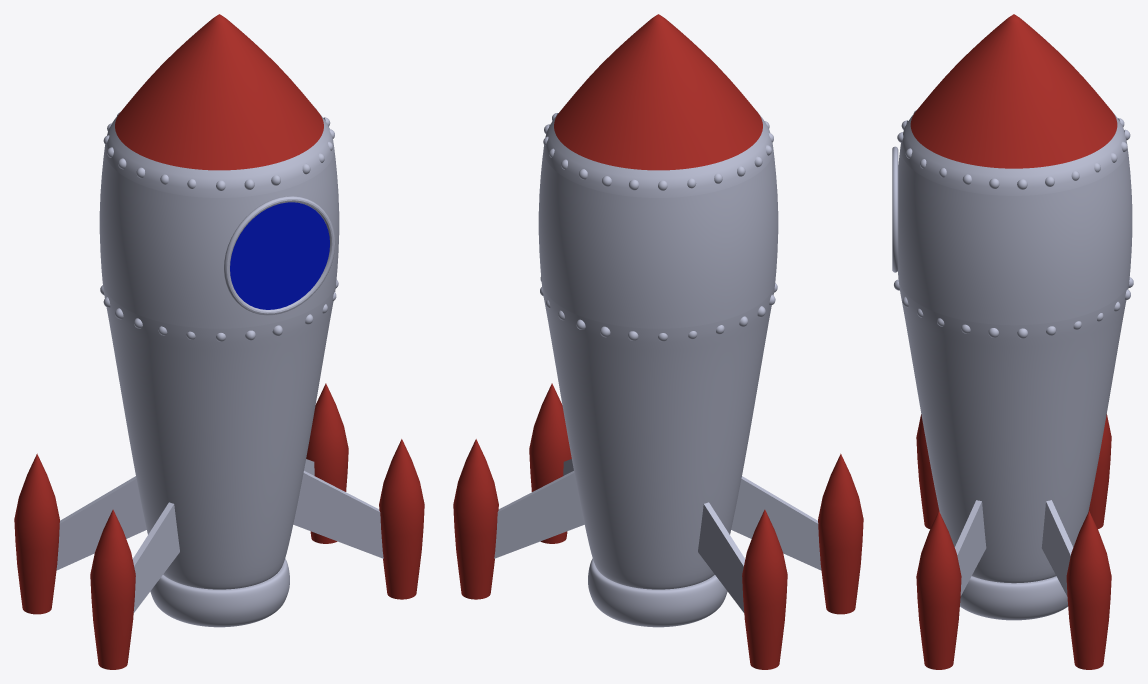
The model's file is Rocket.fbx.
The picture shows the model from 3 angles, left to right: view 1: azimuth 30°, elevation 25°; view 2: azimuth 150°, elevation 25°; view 3: azimuth 270°, elevation 25°; orthographic projection.
Visible parts, largest first — view 1: Rocket; view 2: Rocket; view 3: Rocket.
Boxes of the visible parts, <box> form: Rocket: <box>14,14,424,669</box>; Rocket: <box>453,14,863,669</box>; Rocket: <box>892,14,1133,669</box>.
Size of the model in its own units: 0.0788 by 0.1352 by 0.0508.
